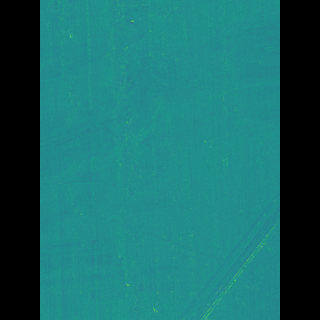Loch: (67, 0, 172, 310), (84, 13, 250, 169), (167, 188, 249, 320)
